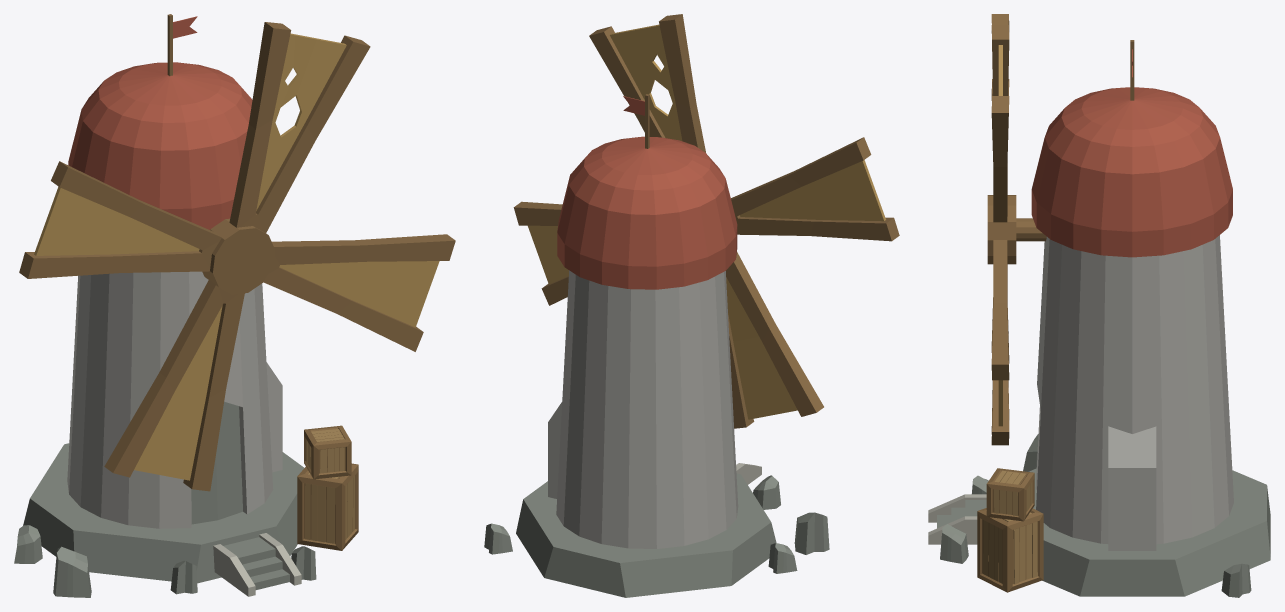
Rendered from Windmill_SecondAge.glb.
The picture shows the model from 3 angles, left to right: view 1: azimuth 30°, elevation 25°; view 2: azimuth 150°, elevation 25°; view 3: azimuth 270°, elevation 25°; orthographic projection. The views are drawn at different scales.
Parts seen in each view (by area): view 1: Windmill_SecondAge; view 2: Windmill_SecondAge; view 3: Windmill_SecondAge.
Boxes of the visible parts, x1=… form: Windmill_SecondAge: x1=14, y1=14, x2=455, y2=597; Windmill_SecondAge: x1=484, y1=14, x2=899, y2=597; Windmill_SecondAge: x1=928, y1=14, x2=1270, y2=597.
Bounding box in the file's own units: 1.34 × 1.61 × 0.9424.
Materials: 1 (1 with a texture image).
